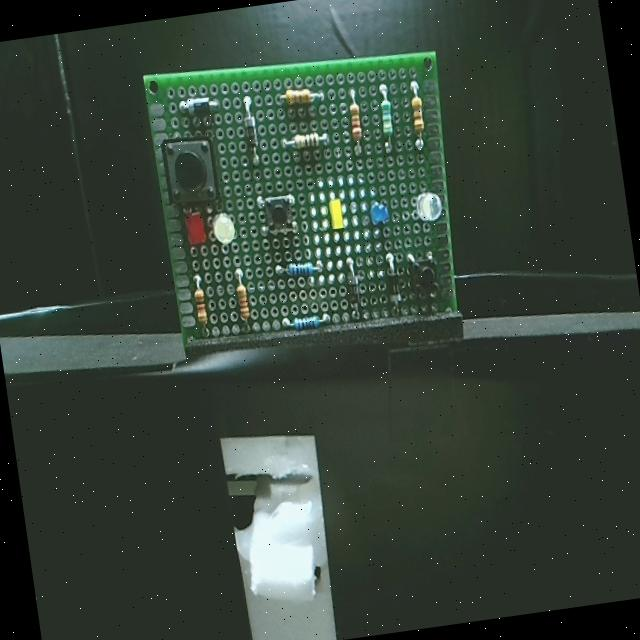diode: (378, 256, 409, 316), (340, 261, 368, 318), (240, 110, 264, 154), (188, 94, 220, 118)
led: (410, 188, 445, 225), (365, 194, 393, 239), (185, 204, 209, 248), (326, 194, 354, 228), (214, 214, 239, 248)
resistor: (280, 304, 330, 342), (403, 89, 432, 150), (378, 94, 406, 156), (344, 98, 373, 154), (286, 125, 328, 162), (228, 270, 254, 323), (277, 260, 322, 288), (286, 82, 320, 112), (191, 280, 211, 330)
switch: (158, 127, 224, 206), (254, 185, 296, 235), (404, 254, 444, 304)
